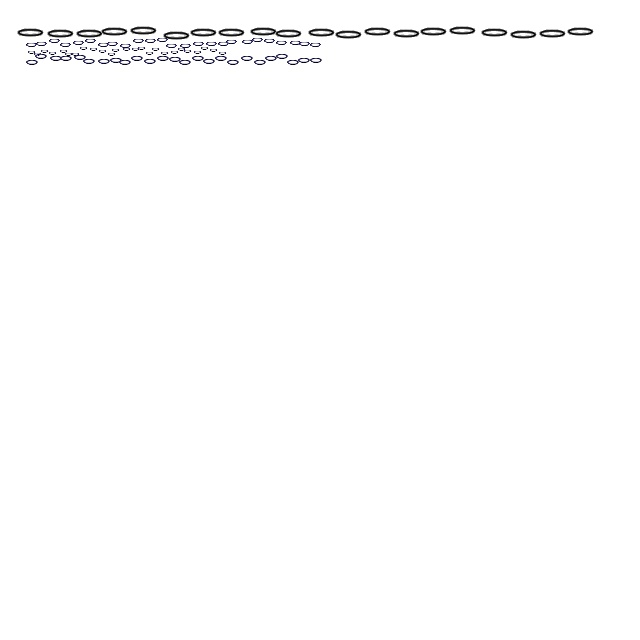chain: (74, 28, 106, 40), (128, 25, 160, 37), (188, 27, 220, 39), (216, 27, 248, 39), (248, 26, 280, 38), (306, 27, 338, 39), (362, 26, 394, 38), (418, 26, 450, 38), (508, 29, 540, 41), (16, 27, 46, 39), (46, 28, 76, 40), (100, 26, 130, 38), (162, 30, 192, 42), (274, 28, 304, 40), (334, 29, 364, 41), (392, 28, 422, 40), (448, 25, 478, 37), (480, 27, 510, 39), (538, 28, 568, 40), (566, 26, 596, 38), (48, 36, 62, 46), (72, 38, 86, 48), (84, 36, 98, 46), (132, 36, 146, 46), (144, 36, 158, 46), (25, 57, 39, 67), (34, 51, 48, 61), (49, 53, 63, 63), (59, 53, 73, 63), (73, 52, 87, 62), (82, 56, 96, 66), (97, 56, 111, 66), (109, 55, 123, 65), (118, 57, 132, 67), (130, 53, 144, 63), (143, 56, 157, 66), (156, 53, 170, 63), (168, 54, 182, 64), (178, 57, 192, 67), (191, 53, 205, 63), (202, 56, 216, 66), (214, 53, 228, 63), (226, 57, 240, 67), (240, 53, 254, 63), (253, 57, 267, 67), (264, 53, 278, 63), (275, 51, 289, 61), (286, 57, 300, 67), (297, 55, 311, 65), (309, 55, 323, 65), (26, 40, 38, 50), (60, 40, 72, 50), (98, 40, 110, 50), (264, 36, 276, 46), (276, 38, 288, 48), (290, 38, 302, 48), (310, 40, 322, 50), (106, 40, 120, 48), (156, 36, 170, 44), (192, 40, 206, 48), (298, 40, 312, 48), (36, 40, 48, 48), (120, 42, 132, 50), (166, 42, 178, 50), (180, 42, 192, 50), (206, 40, 218, 48), (218, 40, 230, 48), (226, 38, 238, 46), (242, 38, 254, 46), (252, 36, 264, 44), (40, 48, 50, 54), (48, 50, 58, 56), (64, 51, 74, 57), (98, 48, 108, 54), (122, 46, 132, 52), (160, 50, 170, 56), (170, 49, 180, 55), (200, 45, 210, 51), (218, 50, 228, 56), (28, 49, 36, 55), (34, 51, 42, 57), (60, 48, 68, 54), (72, 51, 80, 57), (80, 45, 88, 51), (90, 46, 98, 52), (108, 51, 116, 57), (112, 47, 120, 53), (132, 46, 140, 52), (138, 45, 146, 51), (146, 50, 154, 56), (152, 46, 160, 52), (178, 46, 186, 52), (184, 48, 192, 54), (194, 49, 202, 55), (210, 47, 218, 53)
